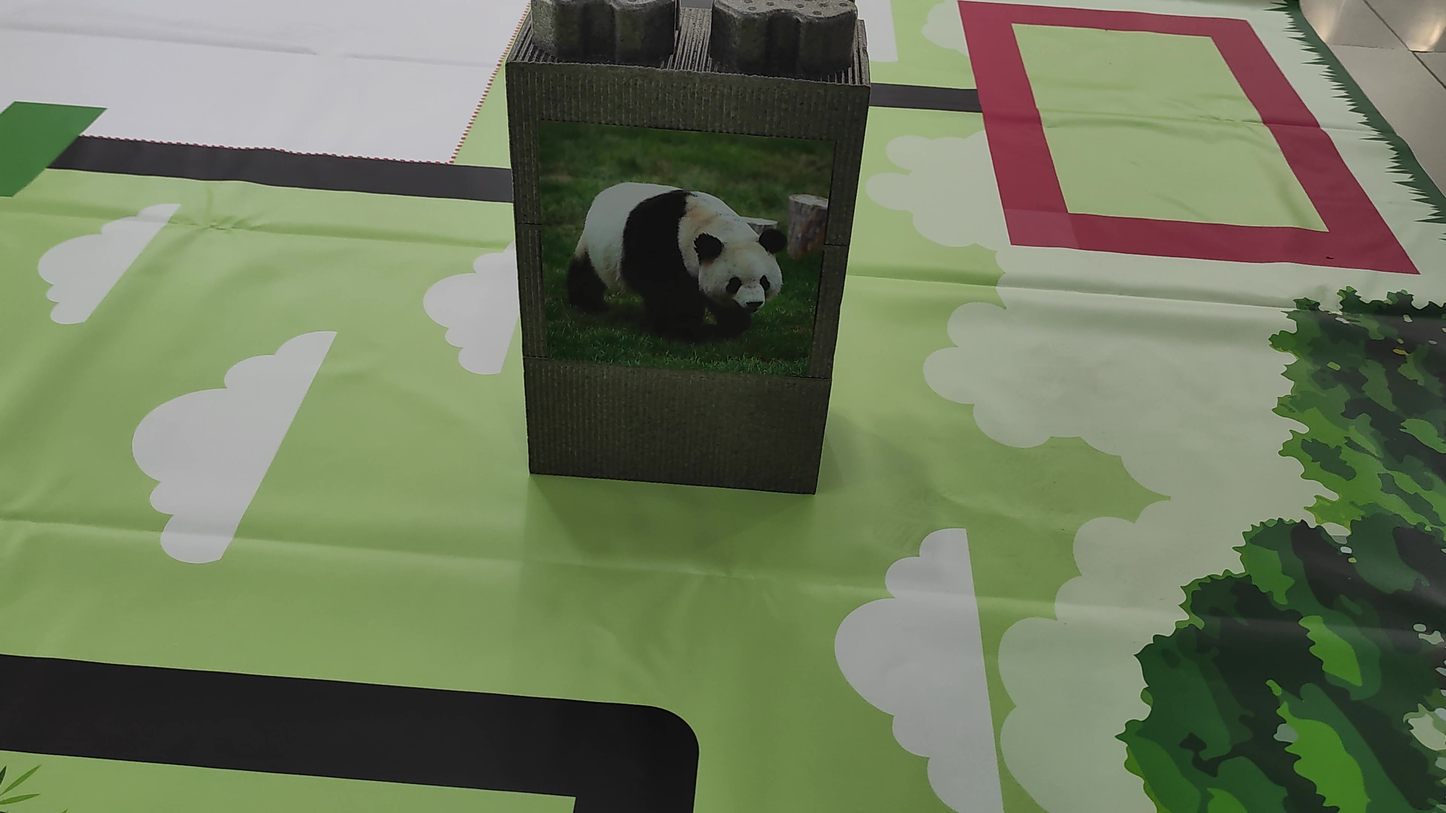panda: (531, 152, 827, 359)
